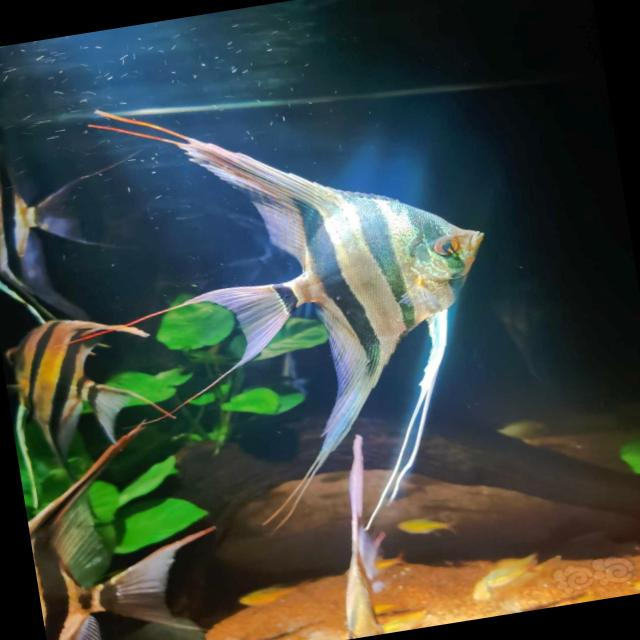AngelFish: (82, 53, 535, 596), (25, 475, 222, 640), (5, 312, 154, 476), (0, 152, 100, 310)
